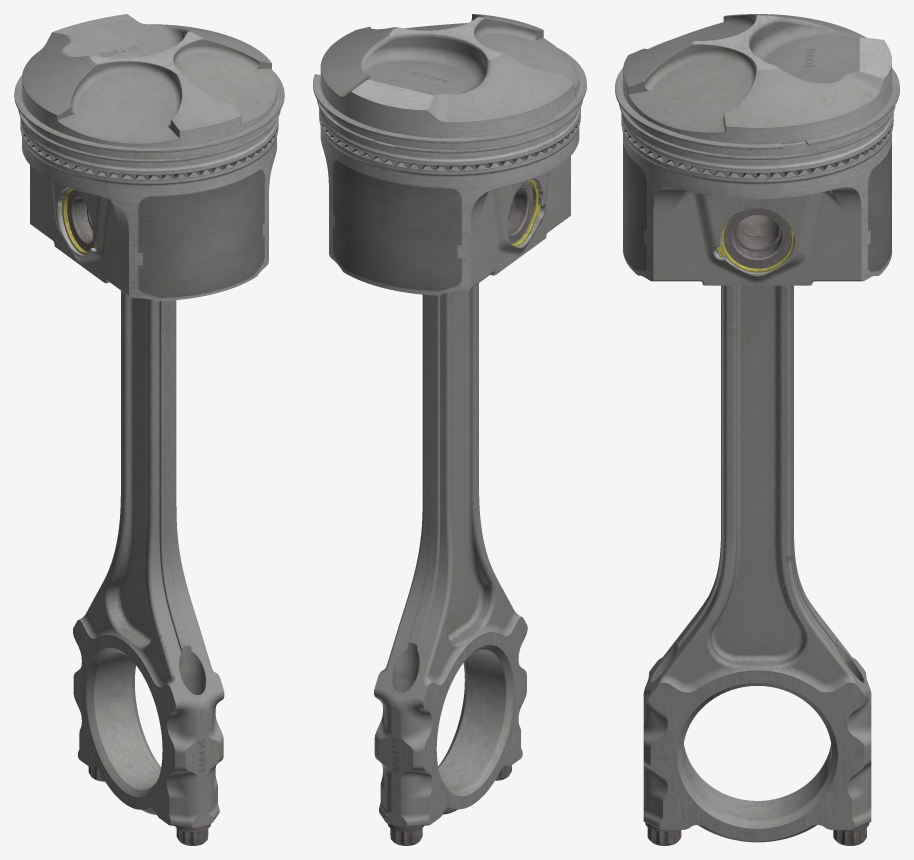
Rendered from engineComponent_cylinder_piston_a01.glb.
3 renders of one model, left to right at view 1: azimuth 30°, elevation 25°; view 2: azimuth 150°, elevation 25°; view 3: azimuth 270°, elevation 25°, orthographic. The views are drawn at different scales.
Parts seen in each view (by area): view 1: head_01_mesh_00, base_01_mesh_00; view 2: head_01_mesh_00, base_01_mesh_00; view 3: head_01_mesh_00, base_01_mesh_00.
Boxes of the visible parts, x1,y1,x2,y2 form: head_01_mesh_00: [14, 14, 284, 301]; base_01_mesh_00: [73, 291, 224, 845]; head_01_mesh_00: [313, 14, 586, 295]; base_01_mesh_00: [374, 283, 527, 845]; head_01_mesh_00: [615, 14, 899, 285]; base_01_mesh_00: [643, 285, 871, 845].
Bounding box in the file's own units: 0.0981 × 0.3032 × 0.0981.
1 material, 1 textured.
